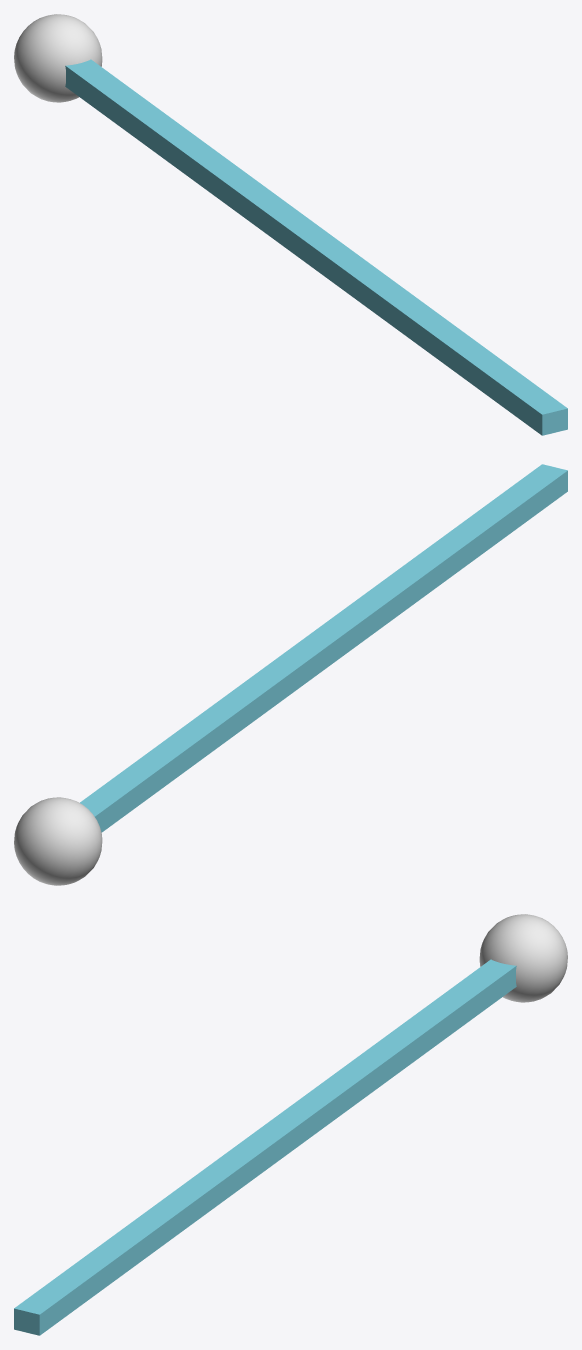
File: tower.glb
3 views of the same model, one above another, from view 1: azimuth 30°, elevation 25°; view 2: azimuth 150°, elevation 25°; view 3: azimuth 330°, elevation 25° (orthographic).
Visible parts, largest first — view 1: tower; view 2: tower; view 3: tower.
Part boxes in pixels (bbox=[...]): tower: bbox=[14, 14, 567, 435]; tower: bbox=[14, 464, 567, 885]; tower: bbox=[14, 914, 567, 1335].
Bounding box in the file's own units: 0.0274 × 0.0274 × 0.3206.
